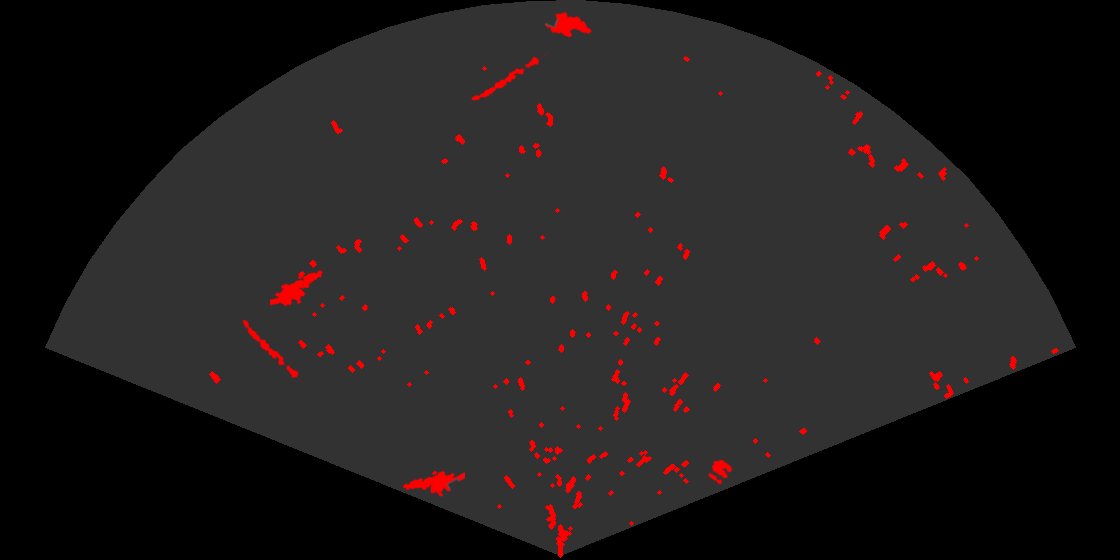AUV: (543, 10, 594, 39)
ball: (706, 458, 734, 486)
chain: (241, 318, 304, 386), (470, 50, 549, 102)
frogman: (270, 269, 325, 308), (401, 469, 465, 498)
